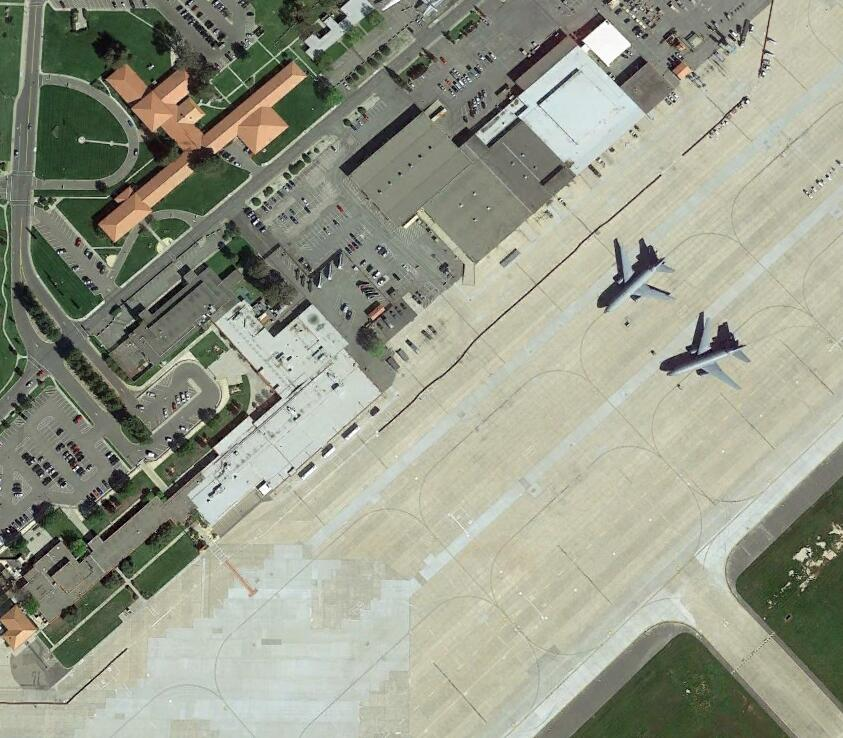A18: (666, 317, 750, 394), (599, 242, 680, 319)
